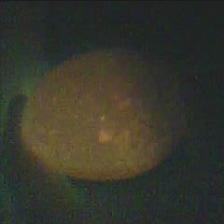fertile: (18, 46, 190, 182)
